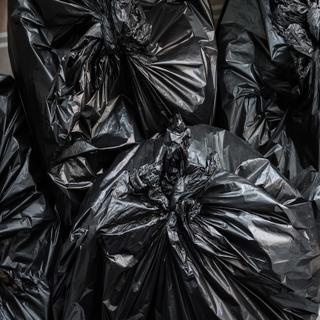Garbage: (54, 120, 319, 319), (8, 0, 221, 165)
